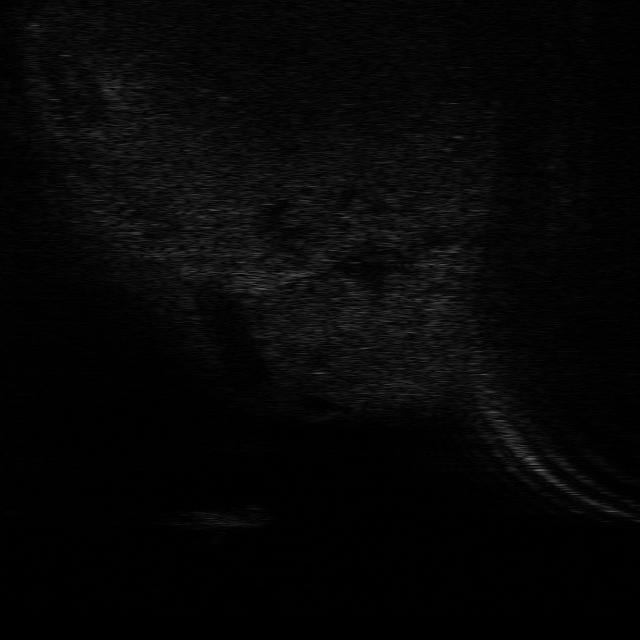cube: (186, 498, 272, 529)
